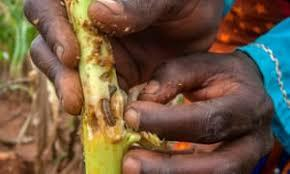fallarmy_worm: (99, 83, 120, 132)
